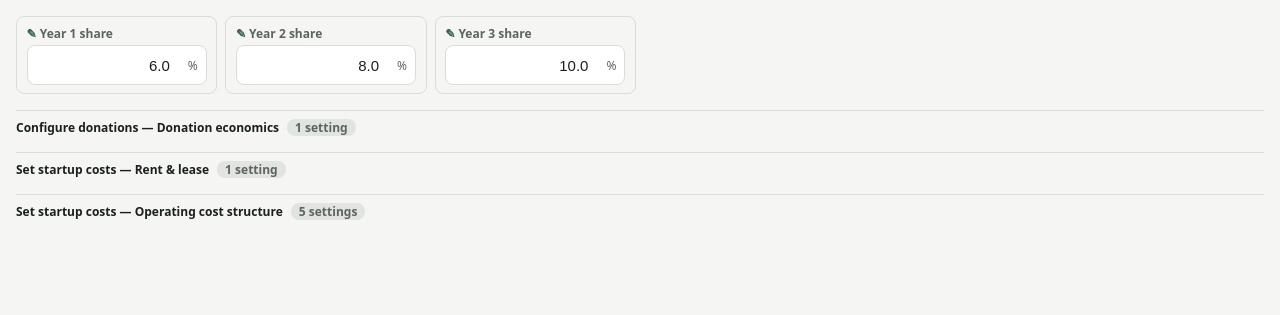
SettingsTab — merged grid renders KPIs + driver fields (D11) › seeds a percent driver from raw × 100 (60% raw 0.6 → field value 60)
Click the heading "Set startup costs — Operating cost structure 5 settings" at (191, 212), box x1=16 y1=203 x2=365 y2=220
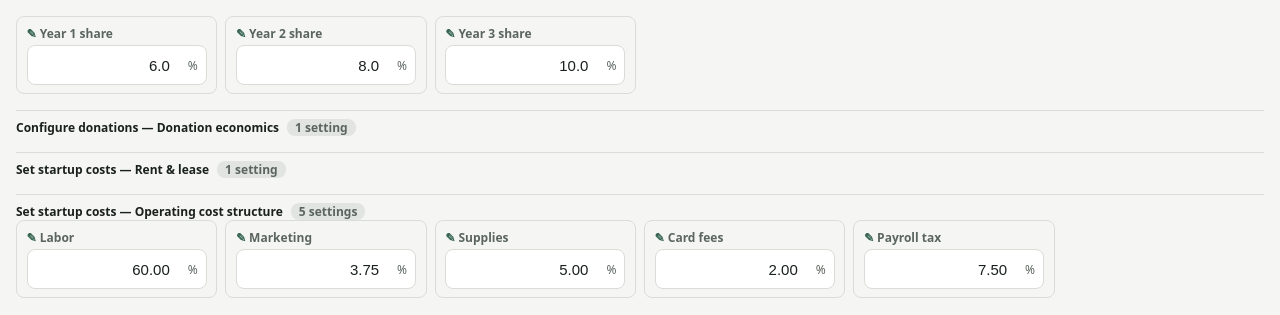
Expected: the field named "labor" holds "60.00", x1=28 y1=261 x2=180 y2=278
